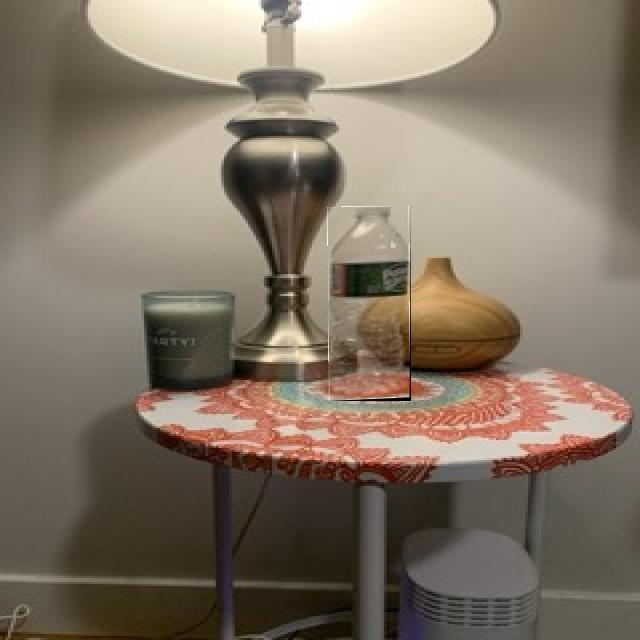water_bottle: (328, 207, 411, 401)
